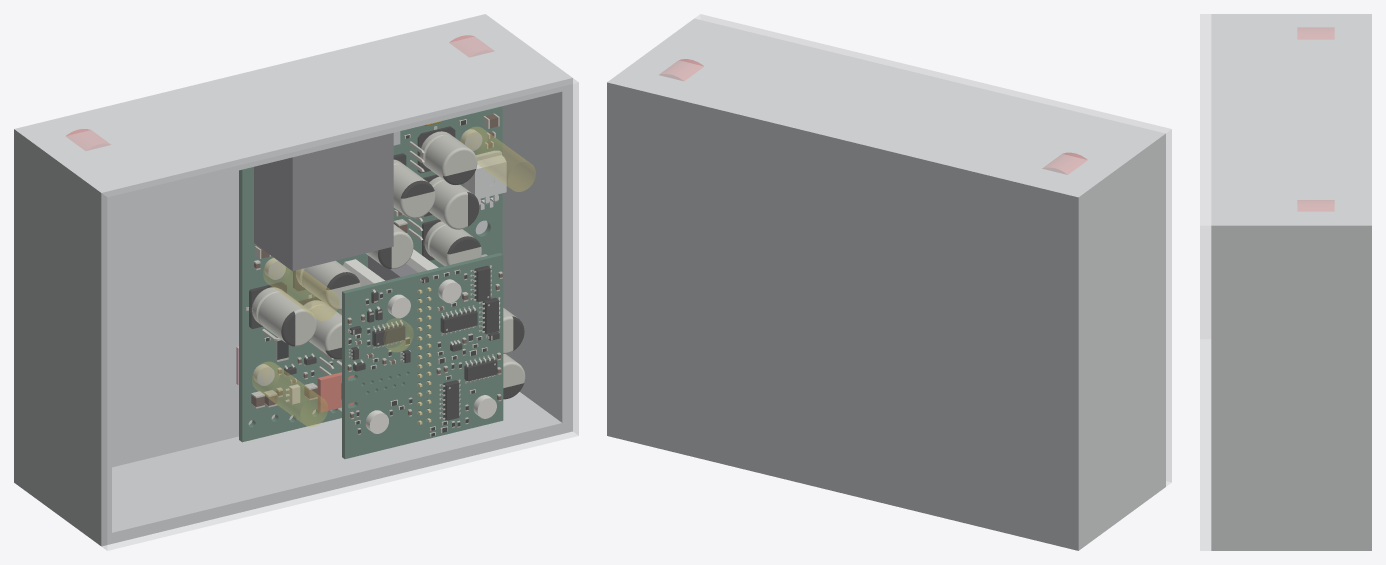
The model's file is BOOST_assembly_2026-09-30.glb.
3 views of the same model, side by side, from view 1: azimuth 30°, elevation 25°; view 2: azimuth 150°, elevation 25°; view 3: azimuth 270°, elevation 25° (orthographic). The views are drawn at different scales.
Parts seen in each view (by area): view 1: lid (underside at 33.0), case floor (10 mm), case wall north, case wall west, case wall south, case wall east, =>[0:1:1:15], L1 CSCF3218-6R8MC body 22.5 x 32.0 x 19.0, =>[0:1:1:22], C71, M10 screwdriver access (4.0 mm radius, head to lid), C69 (+14 smaller); view 2: case floor (10 mm), case wall north, case wall west, lid (underside at 33.0), case wall east; view 3: case wall east, case wall north, case floor (10 mm), lid (underside at 33.0), case wall west, penetrator keep-out box (9.5, 3.5), 15 x 10, penetrator keep-out box (118.5, 3.5), 15 x 10.
Boxes of the visible parts, left/top/right/bottom form: lid (underside at 33.0): left=101, top=78, right=578, bottom=550; case floor (10 mm): left=14, top=14, right=505, bottom=496; case wall north: left=45, top=31, right=562, bottom=201; case wall west: left=34, top=141, right=111, bottom=546; case wall south: left=112, top=392, right=562, bottom=543; case wall east: left=495, top=29, right=572, bottom=433; =>[0:1:1:15]: left=342, top=253, right=503, bottom=458; L1 CSCF3218-6R8MC body 22.5 x 32.0 x 19.0: left=254, top=133, right=393, bottom=270; =>[0:1:1:22]: left=239, top=106, right=502, bottom=442; C71: left=245, top=282, right=316, bottom=346; M10 screwdriver access (4.0 mm radius, head to lid): left=252, top=362, right=327, bottom=426; C69: left=417, top=126, right=477, bottom=184; case floor (10 mm): left=607, top=67, right=1098, bottom=550; case wall north: left=638, top=21, right=1154, bottom=179; case wall west: left=1089, top=131, right=1165, bottom=535; lid (underside at 33.0): left=695, top=14, right=1171, bottom=486; case wall east: left=627, top=18, right=704, bottom=69; case wall east: left=1211, top=221, right=1334, bottom=550; case wall north: left=1211, top=18, right=1334, bottom=220; case floor (10 mm): left=1334, top=14, right=1371, bottom=550; lid (underside at 33.0): left=1200, top=14, right=1210, bottom=550; case wall west: left=1211, top=14, right=1334, bottom=18; penetrator keep-out box (9.5, 3.5), 15 x 10: left=1297, top=28, right=1334, bottom=39; penetrator keep-out box (118.5, 3.5), 15 x 10: left=1297, top=200, right=1334, bottom=211.
Size of the model in its own units: 0.134 by 0.097 by 0.046.
